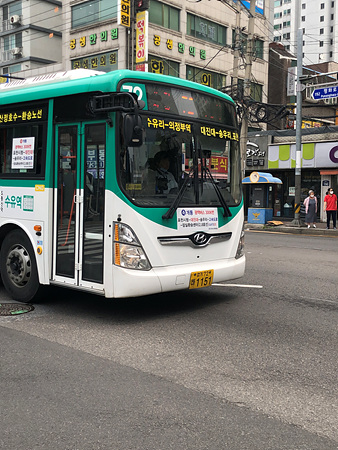entrance: (54, 117, 109, 292)
